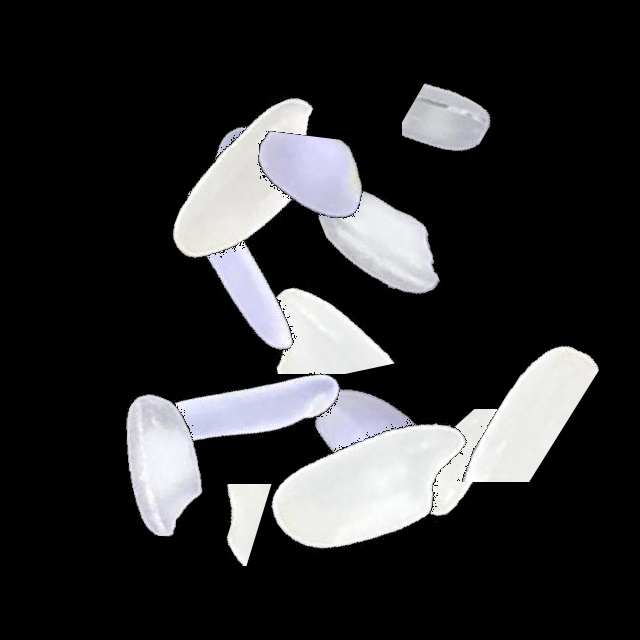Broken: (289, 141, 539, 313), (226, 89, 383, 339), (402, 17, 553, 267), (364, 339, 614, 482), (208, 246, 458, 374), (371, 409, 621, 524), (213, 173, 463, 257), (91, 484, 341, 566)
Full: (249, 311, 499, 561), (246, 358, 496, 608), (119, 280, 369, 530), (145, 42, 395, 292), (115, 146, 365, 396), (123, 55, 373, 305), (37, 339, 287, 589)
